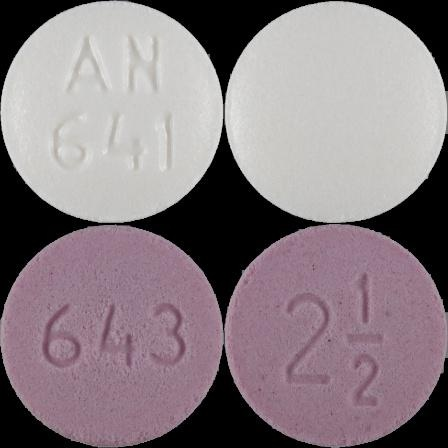69189-0641: (0, 0, 224, 224)
